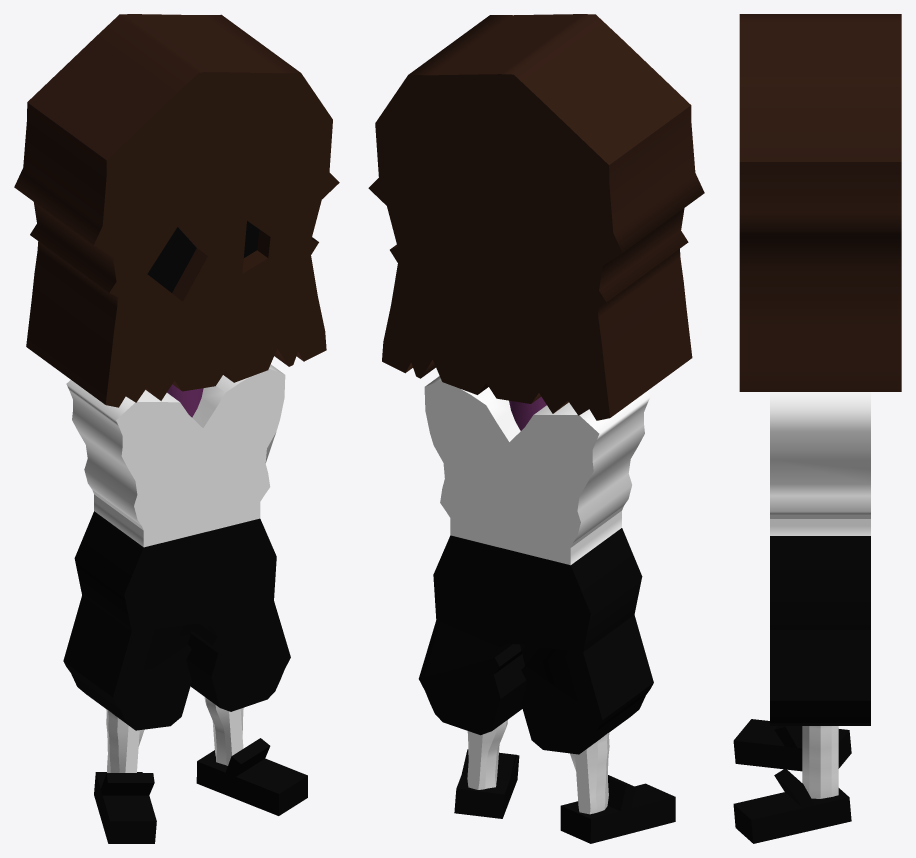
Rendered from Bimbo_02.obj.
3 views of the same model, side by side, from view 1: azimuth 30°, elevation 25°; view 2: azimuth 150°, elevation 25°; view 3: azimuth 270°, elevation 25° (orthographic). The views are drawn at different scales.
Visible parts, largest first — view 1: pCube7; view 2: pCube7; view 3: pCube7.
Part boxes in pixels (box(x1,y1,x2,y2)): pCube7: box(14, 14, 339, 843); pCube7: box(368, 14, 704, 843); pCube7: box(733, 14, 901, 843).
Bounding box in the file's own units: 0.3578 × 1.06 × 0.2075.
